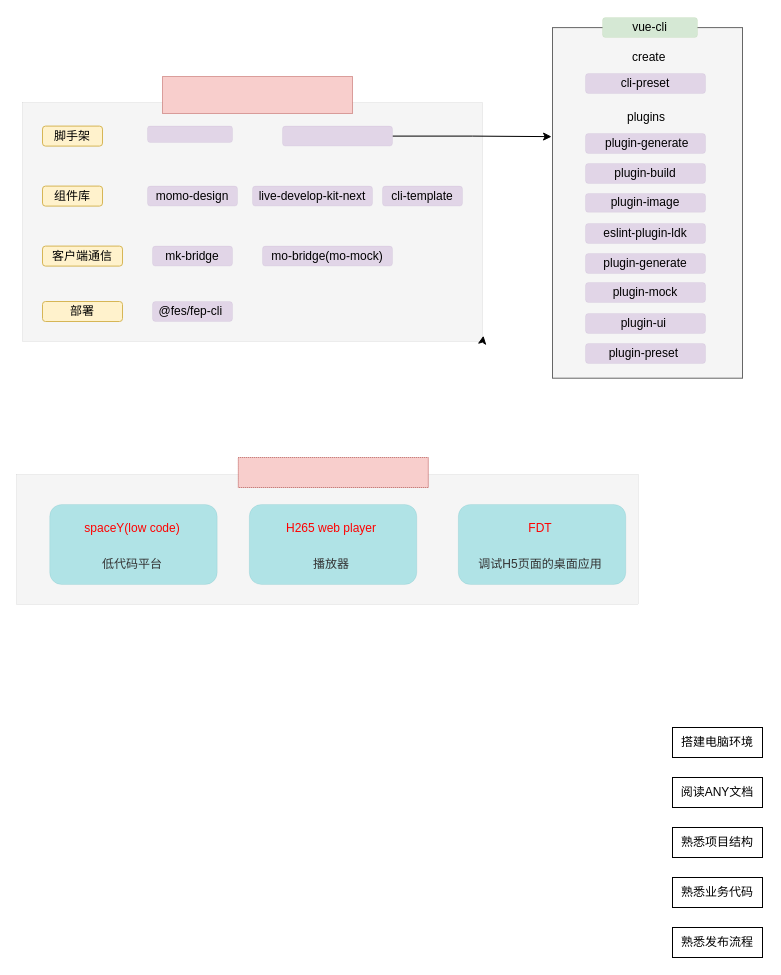
Some shapes in this 781 by 975 pixel diagram are drawn without their labels. The shapes that lost their labels are listed below. From the top down, each one's box as (x1, y1, x2, y2) in pixels, then its label:
(162, 76, 352, 114): 工程化
(147, 126, 232, 142): mkv-cli
(282, 126, 392, 146): vue-cli(cli-preset)
(237, 456, 428, 488): 其他
